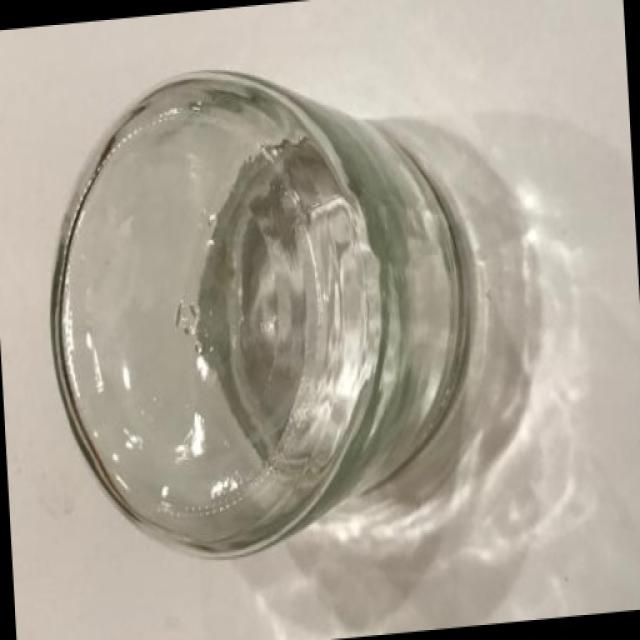vidrio: (45, 42, 520, 608)
